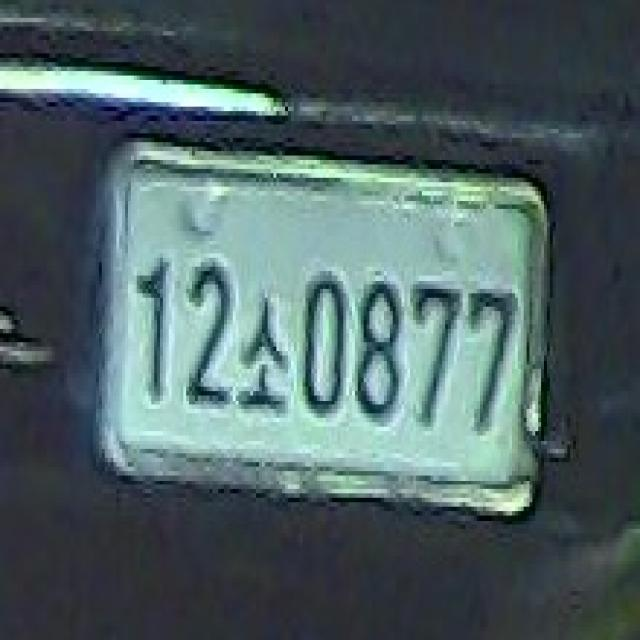0: (294, 266, 352, 418)
1: (125, 253, 178, 418)
2: (183, 253, 239, 418)
7: (462, 280, 524, 444), (408, 280, 466, 436)
8: (349, 271, 407, 427)
license_plate: (84, 125, 556, 524)
so: (238, 293, 291, 427)
